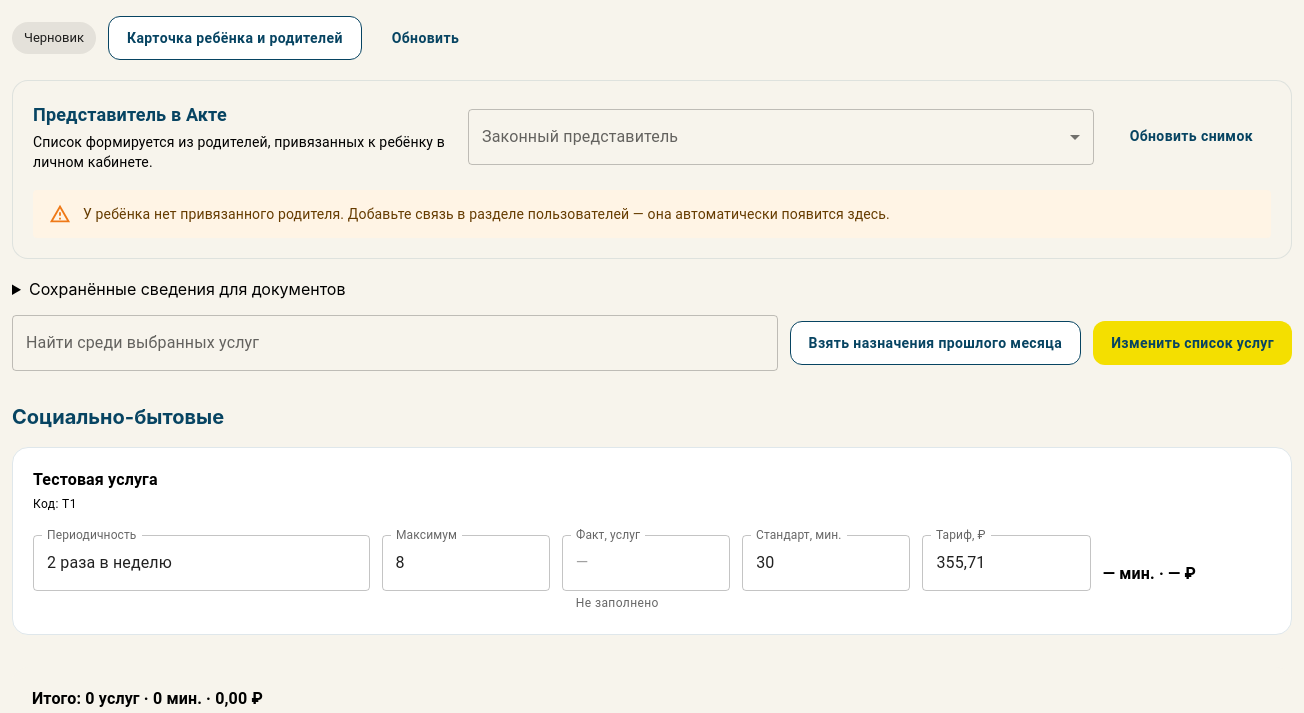
zero is explicit, null remains empty, successful save and reload preserve zero
Type "0" into the number field named "Фактически: Тестовая услуга" at (646, 563), box [562, 535, 730, 591]
(page scrolled)
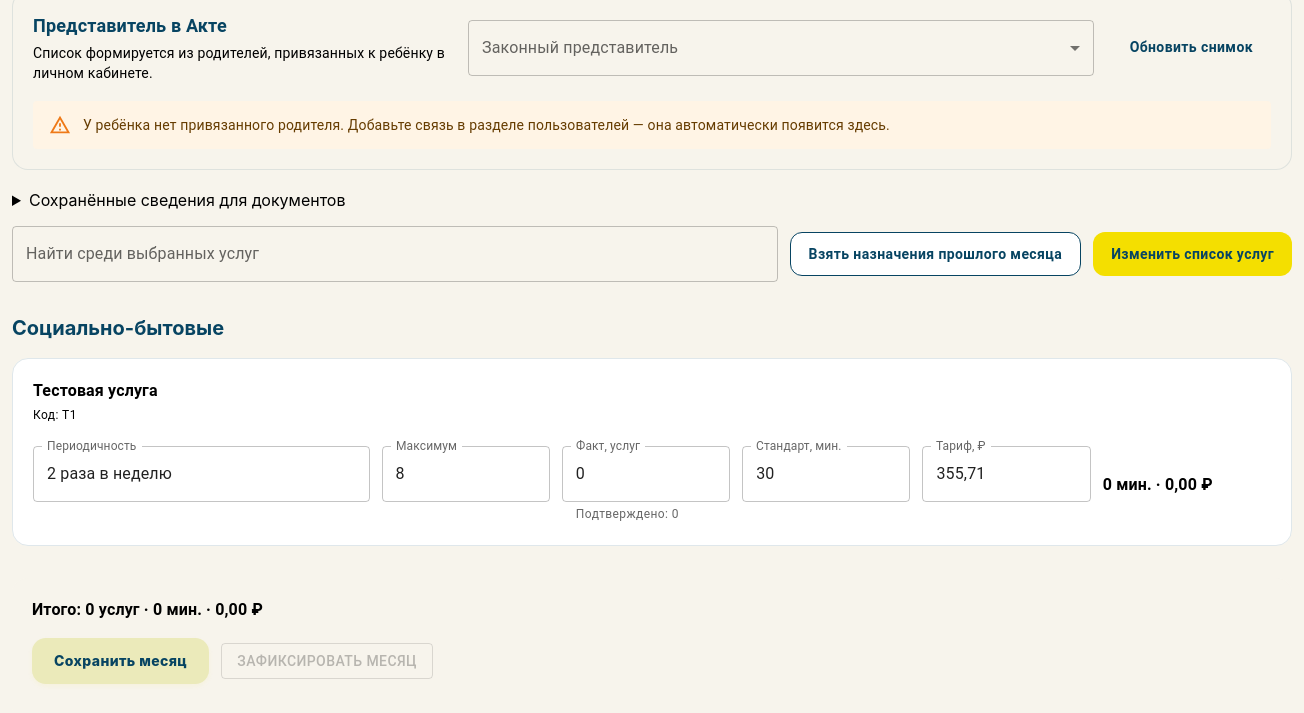
expect the text "Подтверждено: 0" is shown: met, box [576, 507, 679, 521]
Click the button "Сохранить месяц" at (121, 661), box [32, 638, 209, 684]
(page scrolled)
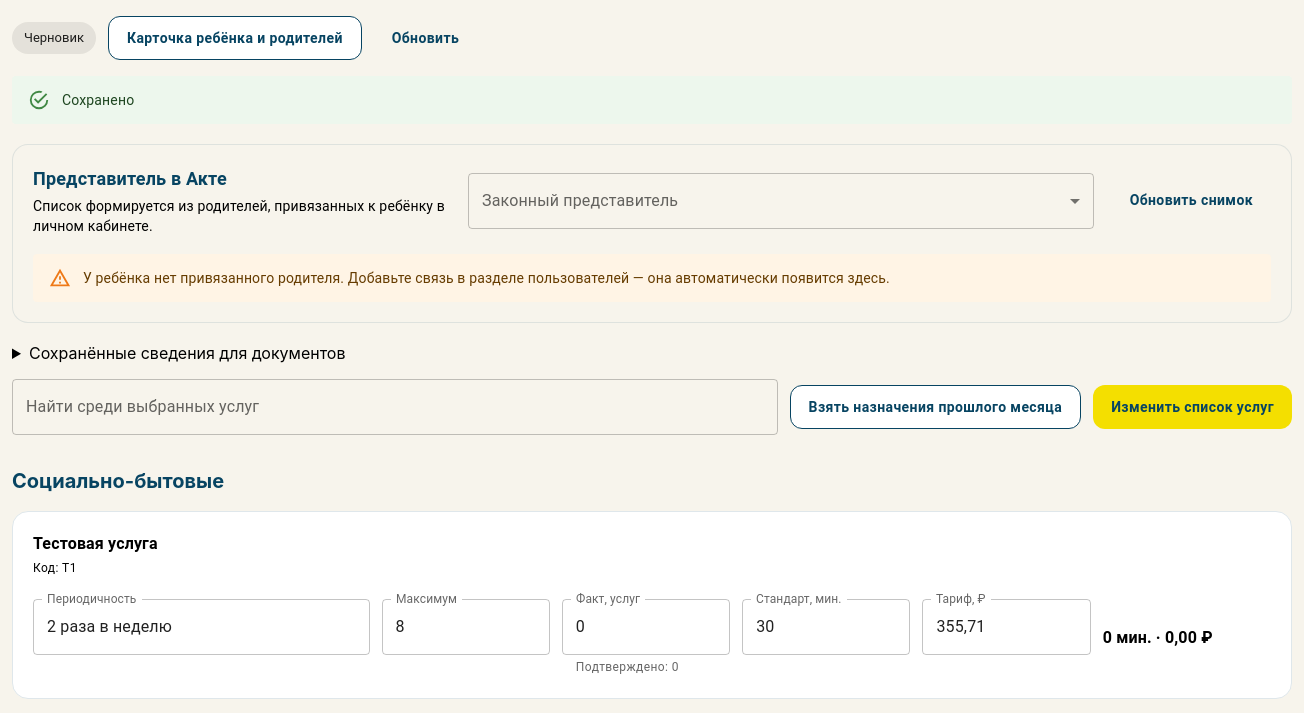
expect the text "Сохранено" is shown: met, box [62, 92, 134, 108]
Click the button "Обновить" at (426, 38), box [374, 16, 477, 60]
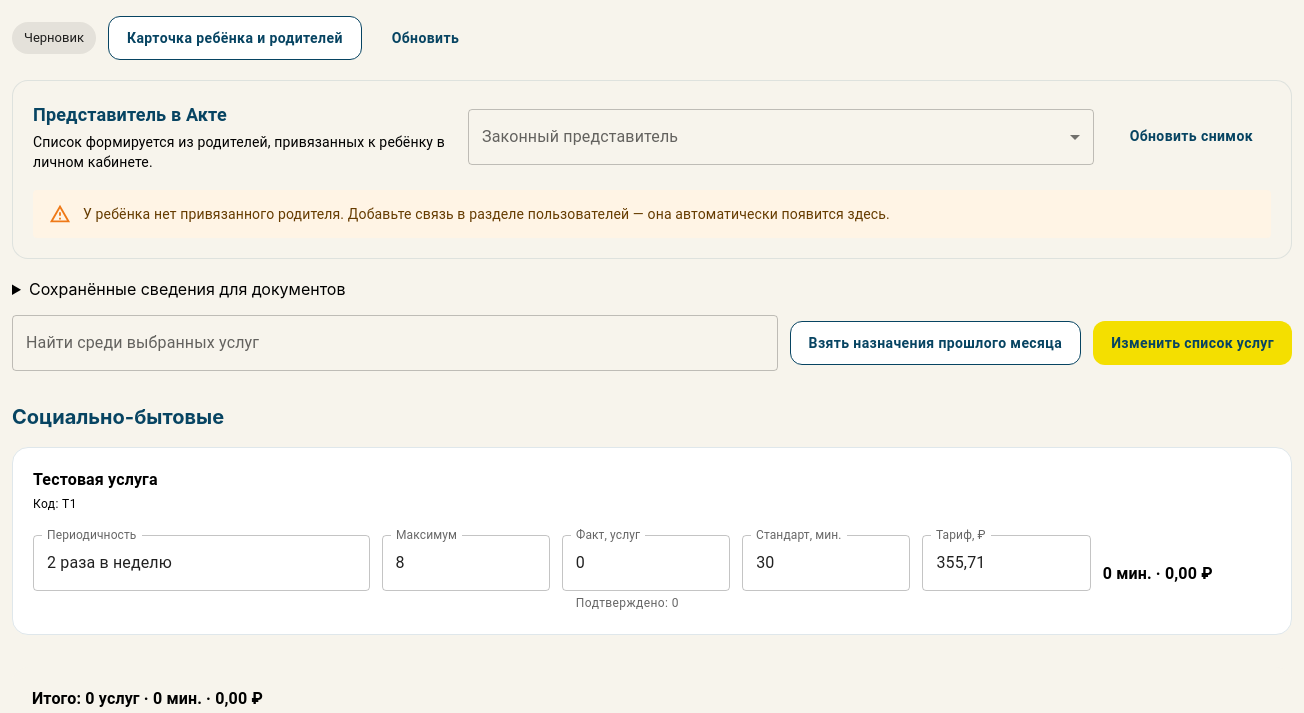
expect the number field named "Фактически: Тестовая услуга" holds "0": met, box [562, 535, 730, 591]
